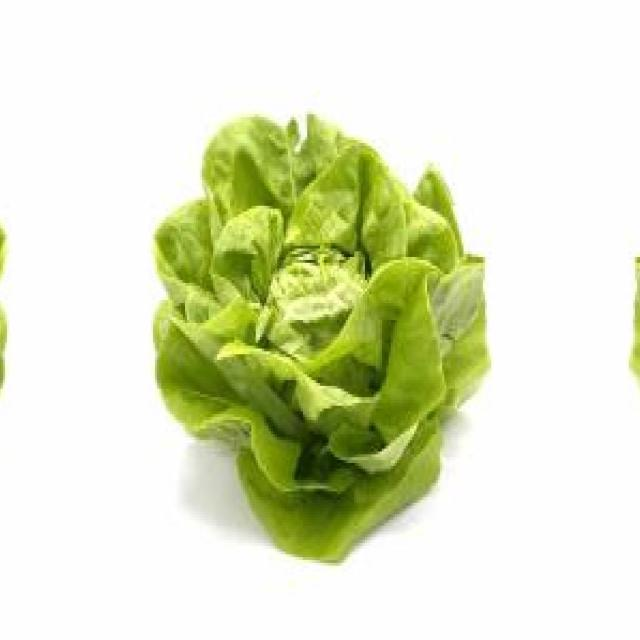healthy: (150, 102, 494, 562), (625, 101, 640, 562), (0, 101, 10, 562)
